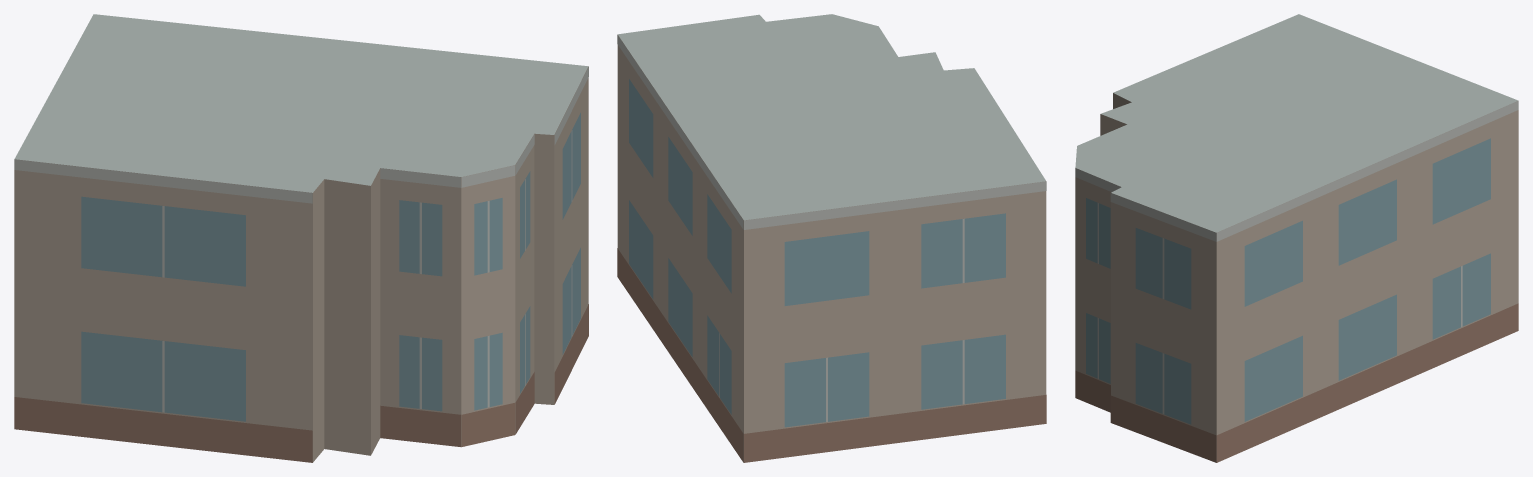
The model's file is survey-upis-32810876.glb.
3 views of the same model, side by side, from view 1: azimuth 30°, elevation 25°; view 2: azimuth 150°, elevation 25°; view 3: azimuth 270°, elevation 25° (orthographic). The views are drawn at different scales.
Visible parts, largest first — view 1: survey-upis-32810876.tmp; view 2: survey-upis-32810876.tmp; view 3: survey-upis-32810876.tmp.
Part boxes in pixels (x1=…): survey-upis-32810876.tmp: x1=14, y1=14, x2=588, y2=462; survey-upis-32810876.tmp: x1=617, y1=14, x2=1046, y2=462; survey-upis-32810876.tmp: x1=1075, y1=14, x2=1518, y2=462.
Size of the model in its own units: 12.44 by 6.1 by 10.66.
